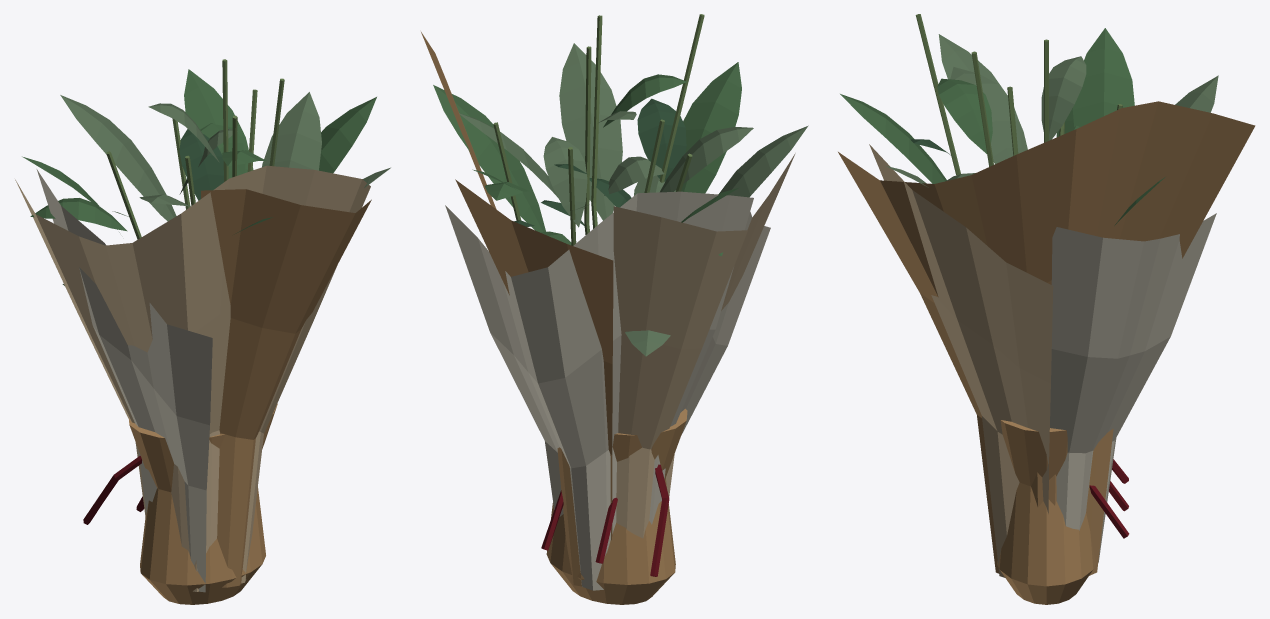
Rendered from mixedWrap.glb.
3 views of the same model, side by side, from view 1: azimuth 30°, elevation 25°; view 2: azimuth 150°, elevation 25°; view 3: azimuth 270°, elevation 25° (orthographic). The views are drawn at different scales.
Visible parts, largest first — view 1: mixedWrap; view 2: mixedWrap; view 3: mixedWrap.
Boxes of the visible parts, box(x1,y1,x2,y2) form: mixedWrap: box(15, 59, 390, 604); mixedWrap: box(421, 14, 808, 604); mixedWrap: box(838, 14, 1255, 604).
Bounding box in the file's own units: 0.3083 × 0.4713 × 0.3207.
